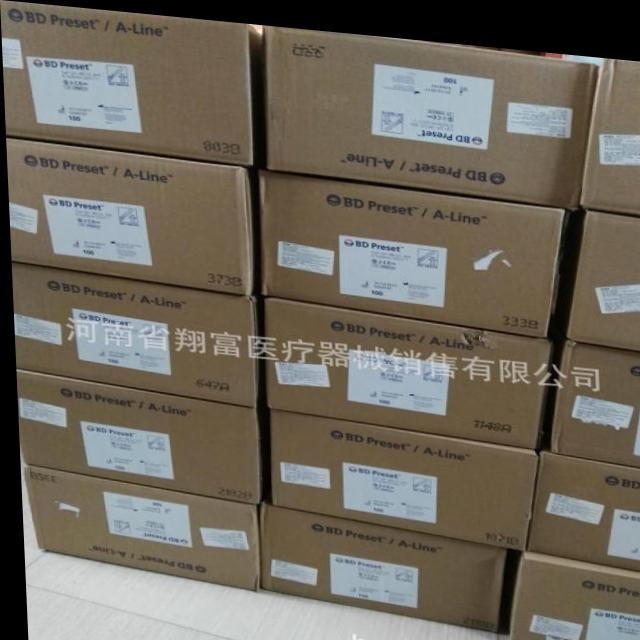box: (257, 20, 599, 202), (251, 162, 573, 330), (254, 292, 550, 441), (1, 1, 261, 161), (5, 136, 254, 292), (257, 404, 534, 541), (10, 263, 257, 404), (13, 368, 258, 501), (255, 500, 507, 624), (19, 465, 255, 589), (497, 540, 640, 640), (521, 441, 640, 560), (534, 330, 640, 456), (553, 199, 640, 340), (576, 45, 640, 203)
